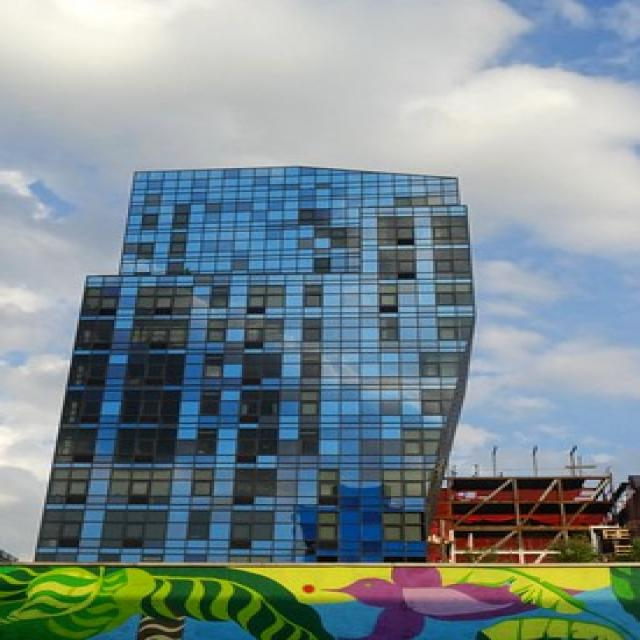building: (23, 162, 482, 560)
